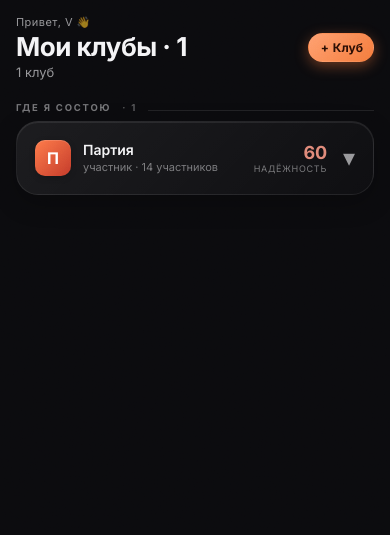
Test case: MyClubsPage — раскрывающаяся карточка клуба с «путём наверх» › свёрнутая карточка показывает надёжность справа; тап раскрывает «Путь наверх» с траекторией
Click the button "П Партия участник · 14 участников 60 надёжность ▾". click: (195, 158)
box: [21,126,369,190]
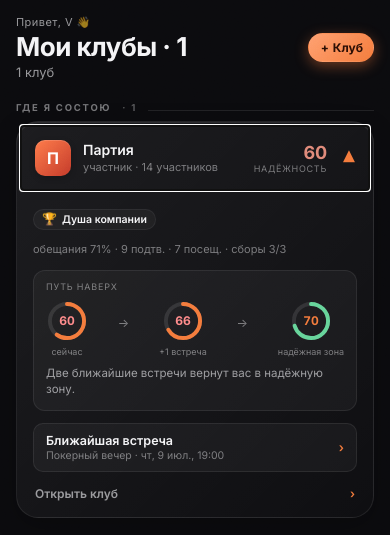
Expected: the text "Путь наверх" is shown, [46,280,118,292]
Expected: the button "П Партия участник · 14 участников 60 надёжность ▾" is expanded
Повторный тап сворачивает.
Click the button "П Партия участник · 14 участников 60 надёжность ▾". click: (195, 158)
box: [21,126,369,190]
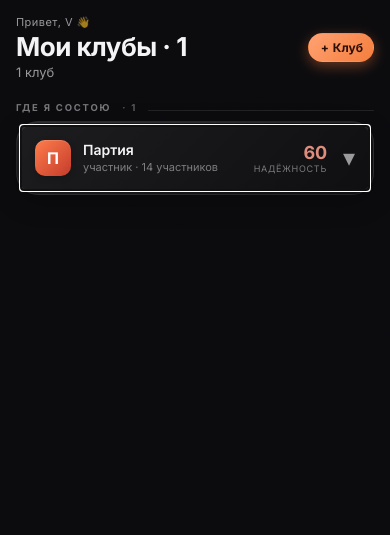
Expected: the button "П Партия участник · 14 участников 60 надёжность ▾" is collapsed, [21,126,369,190]
